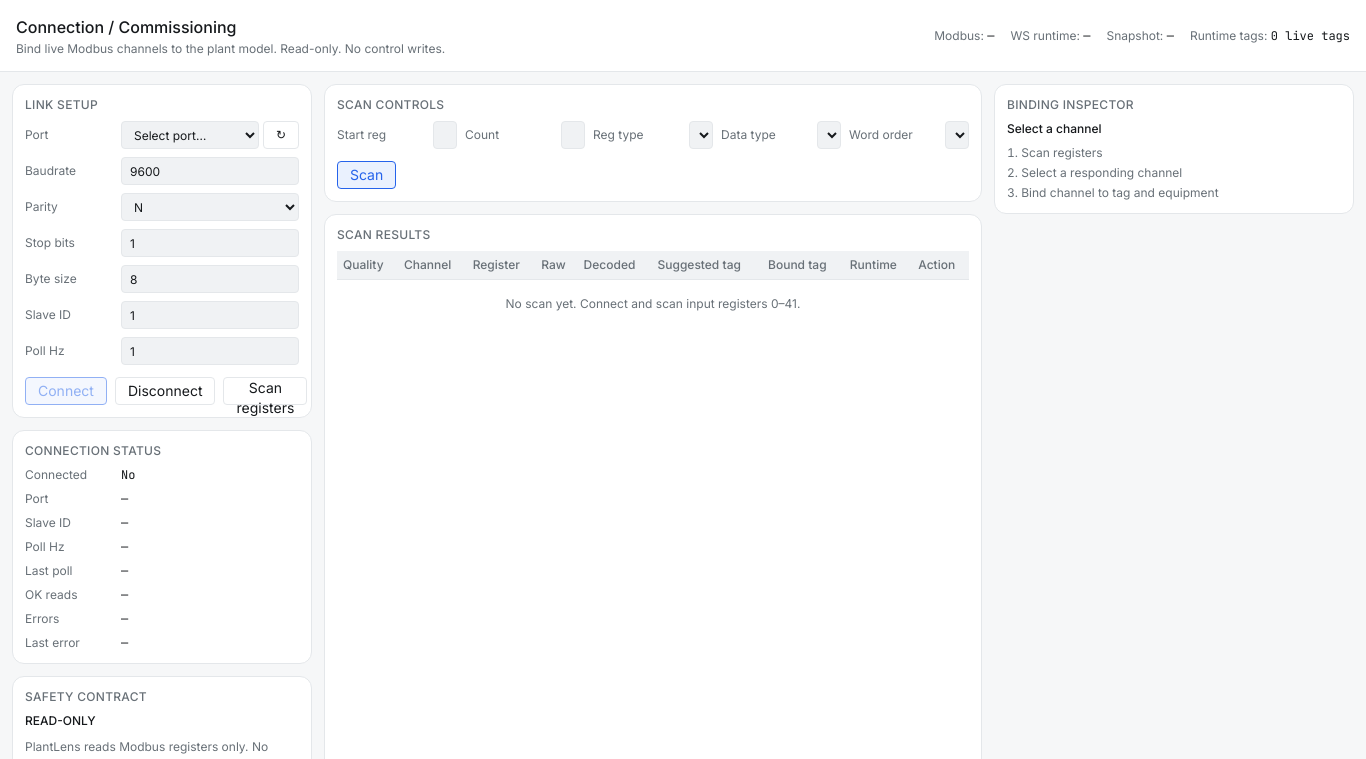
ConnectionScreen › renders BAD scan row decoded as em dash, not zero
The width and height of the screenshot is (1366, 759).
Expected: the heading "Connection / Commissioning" is shown, 16,16 -> 236,36
Click the button "Scan" at (367, 175), box 337,161 -> 396,189
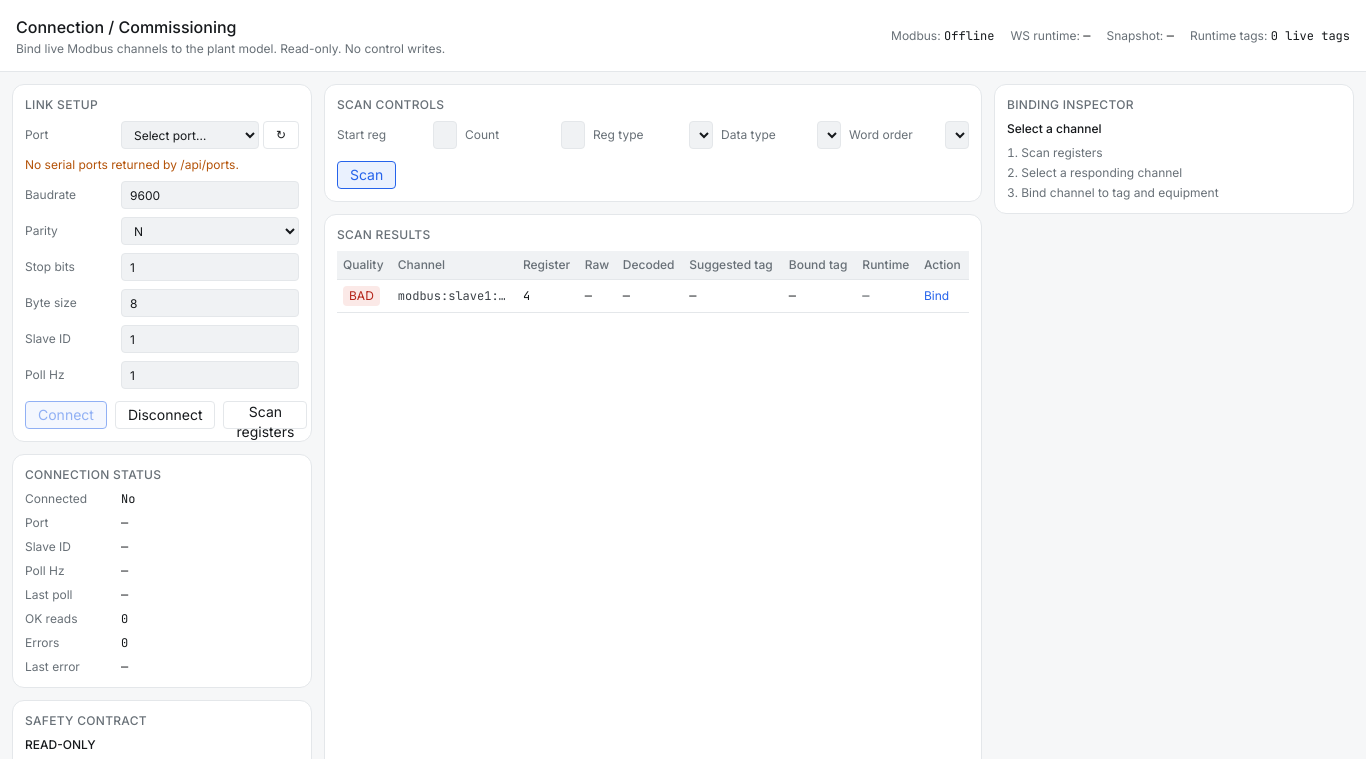
Now the 1st text "—" is shown, box 579,280 -> 617,312
